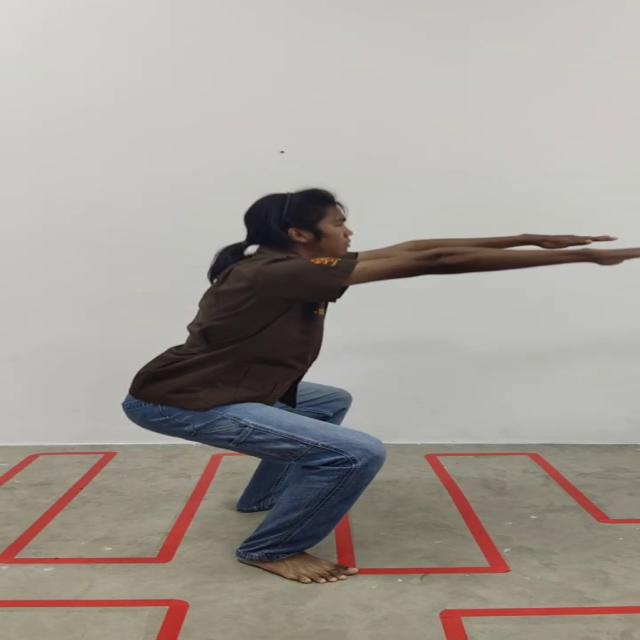squat: (124, 188, 628, 586)
